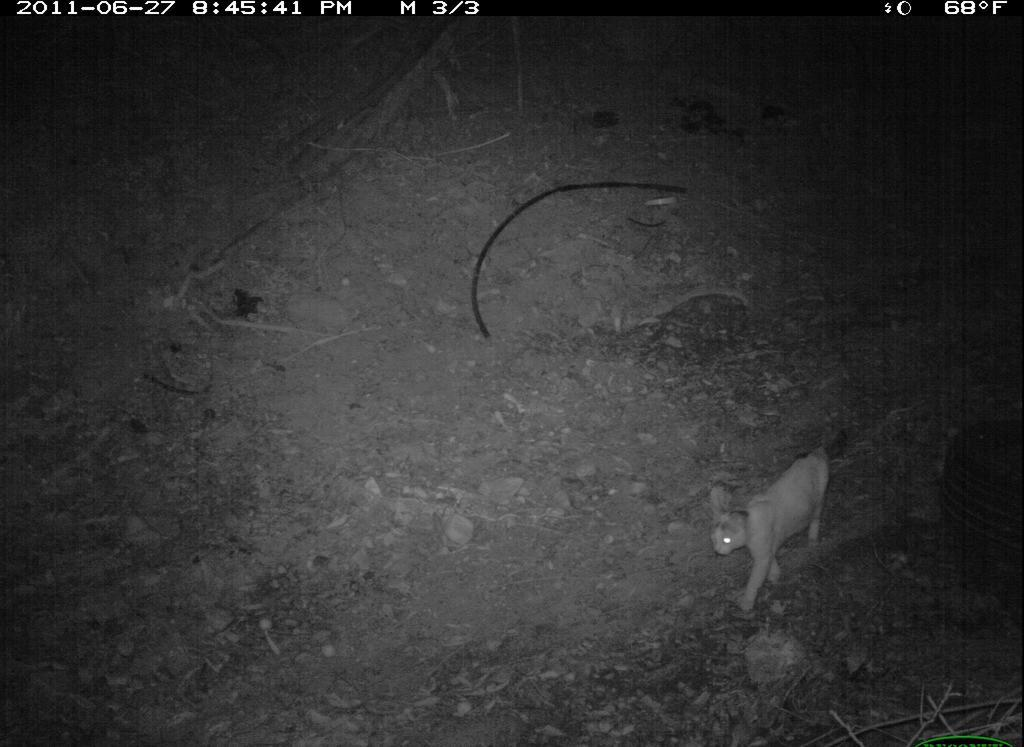cat: (702, 429, 865, 620)
